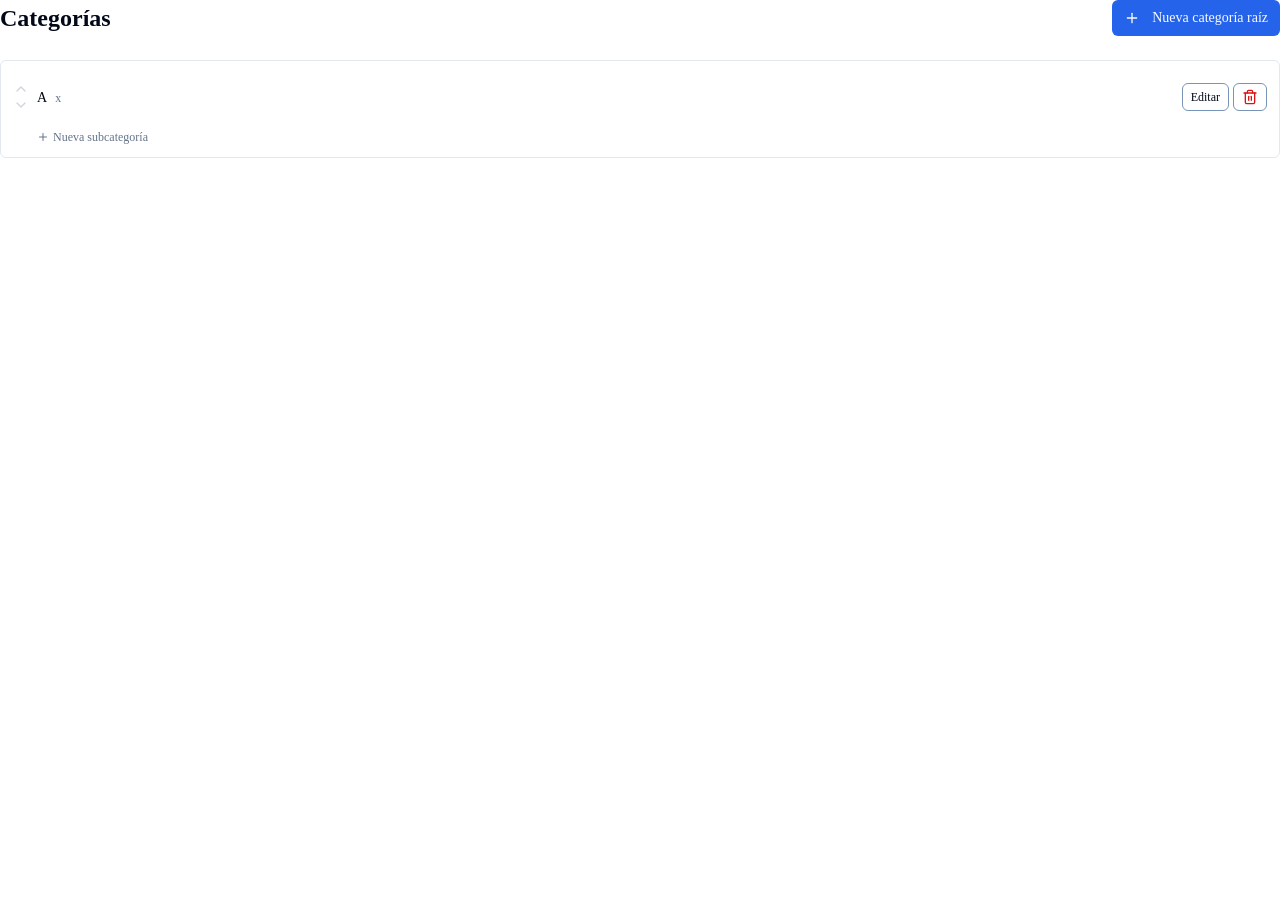
Test: Admin categorías — moderación previa (M5) › LEE la marca guardada: una categoría marcada abre con la casilla marcada
Expected: the text "A" is shown, [37,90,47,105]
Click the button "Editar" at (1205, 97), box [1182,83,1229,111]
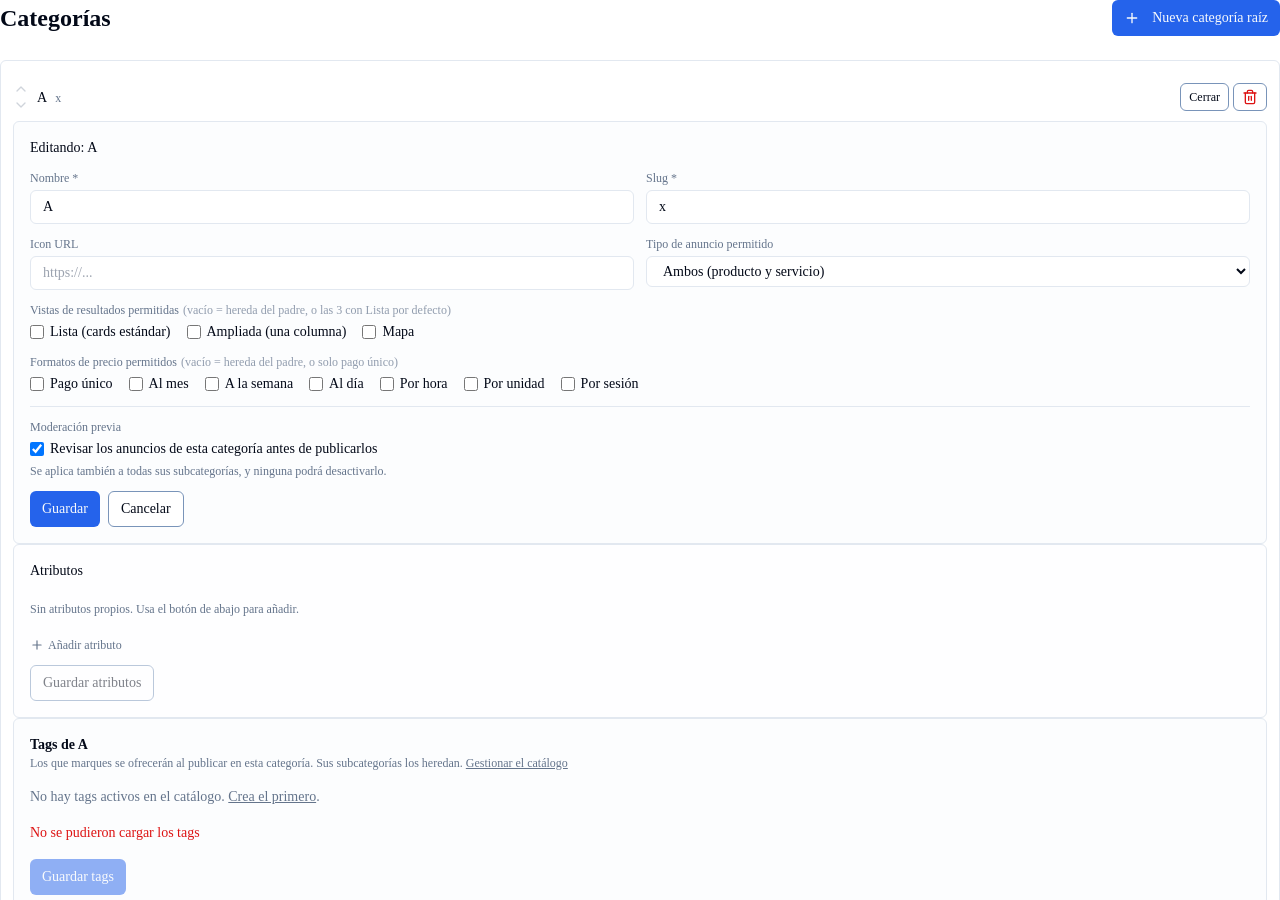
Now the checkbox with test id "requires-review-checkbox" is checked, box [30,442,44,456]
Now the checkbox with test id "requires-review-checkbox" is enabled, box [30,442,44,456]
